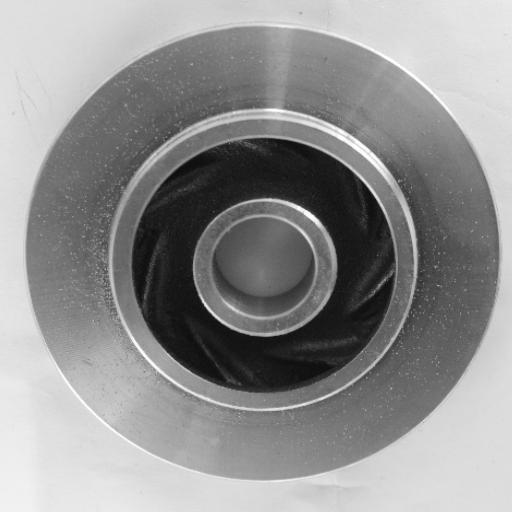polished_casting: (24, 21, 502, 486)
